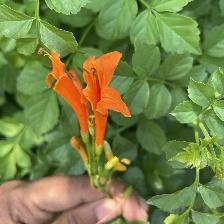honeysuckle: (81, 45, 139, 154)
